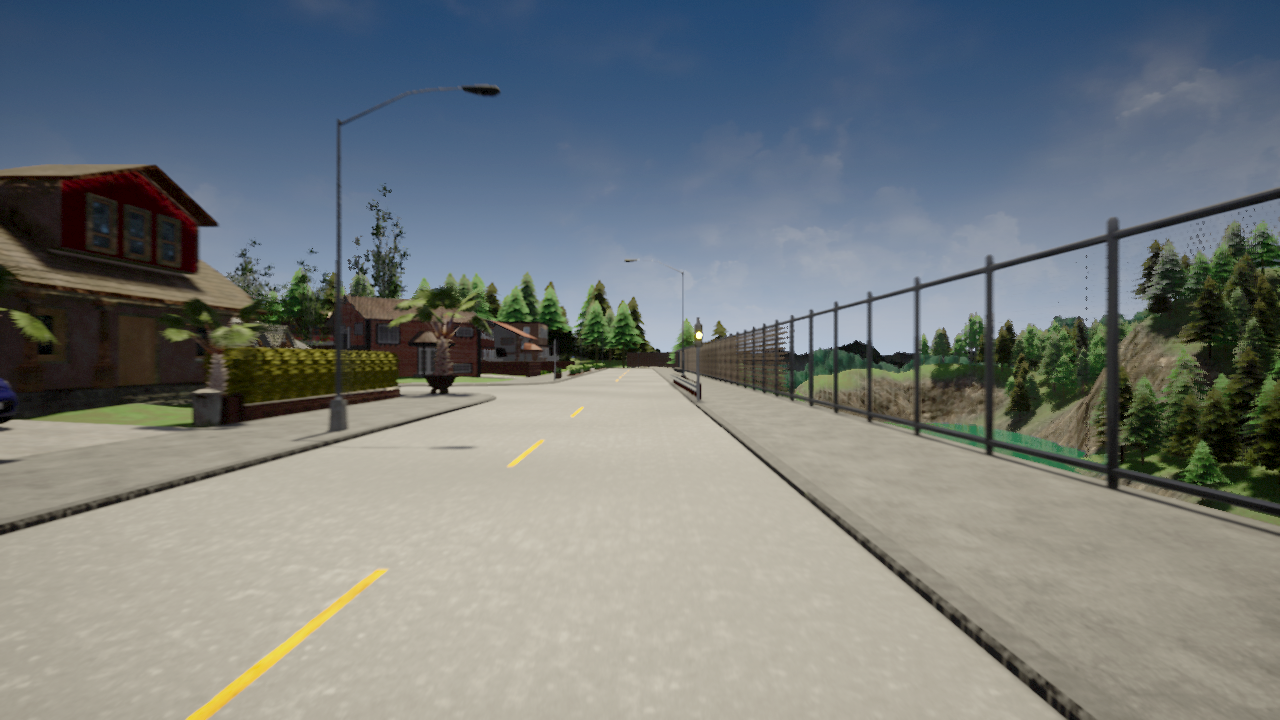yellow: (694, 322, 704, 348)
